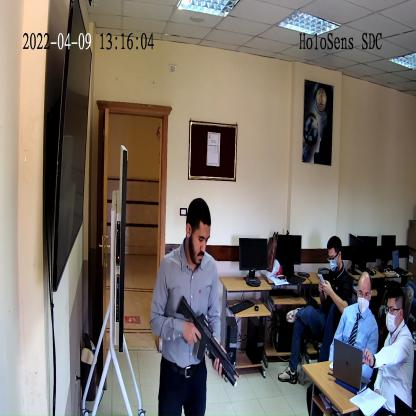handgun: (175, 292, 236, 390)
